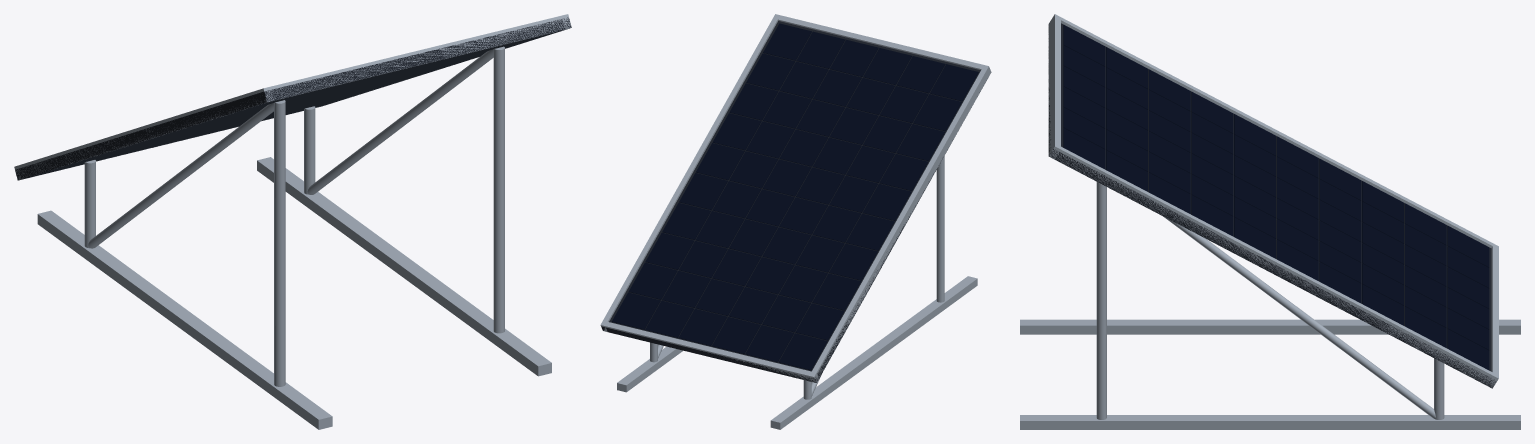
File: Napelem_talajra.obj
3 views of the same model, side by side, from view 1: azimuth 30°, elevation 25°; view 2: azimuth 150°, elevation 25°; view 3: azimuth 270°, elevation 25° (orthographic). The views are drawn at different scales.
Size of the model in its own units: 1.1 by 1.16 by 1.76.
